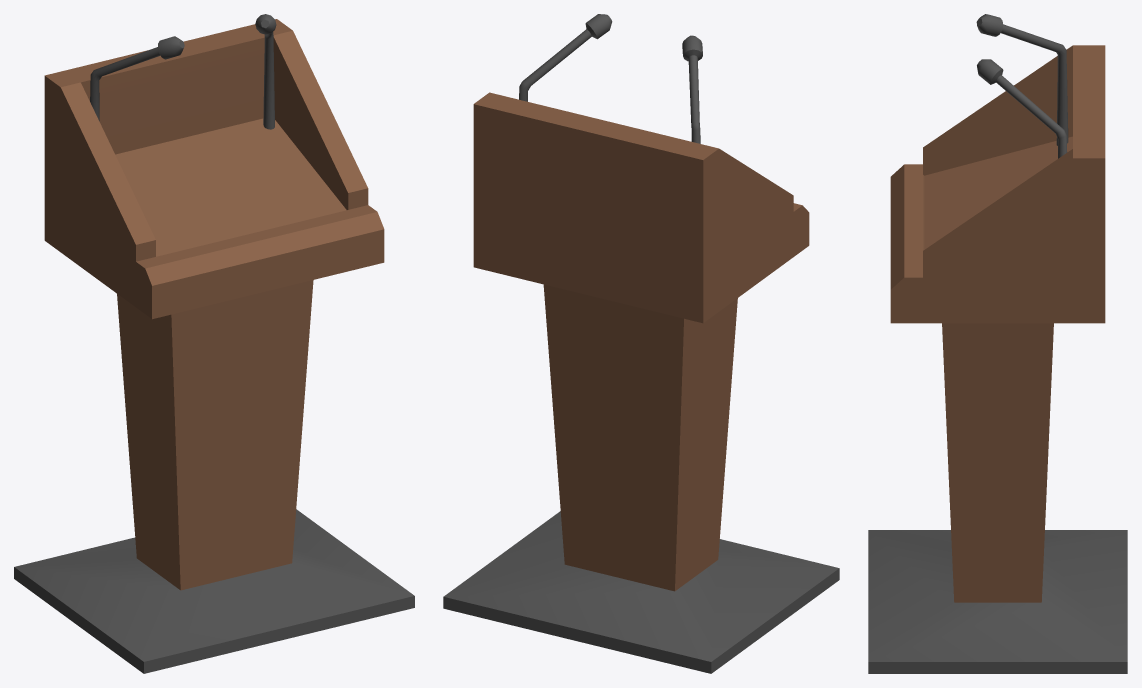
File: podium.glb
3 views of the same model, side by side, from view 1: azimuth 30°, elevation 25°; view 2: azimuth 150°, elevation 25°; view 3: azimuth 270°, elevation 25° (orthographic).
Parts seen in each view (by area): view 1: Box001; view 2: Box001; view 3: Box001.
Part boxes in pixels (x1,y1,x2,y2): Box001: (14, 14, 414, 673); Box001: (443, 14, 839, 673); Box001: (868, 14, 1127, 673).
Size of the model in its own units: 41.33 by 83.29 by 34.29.
